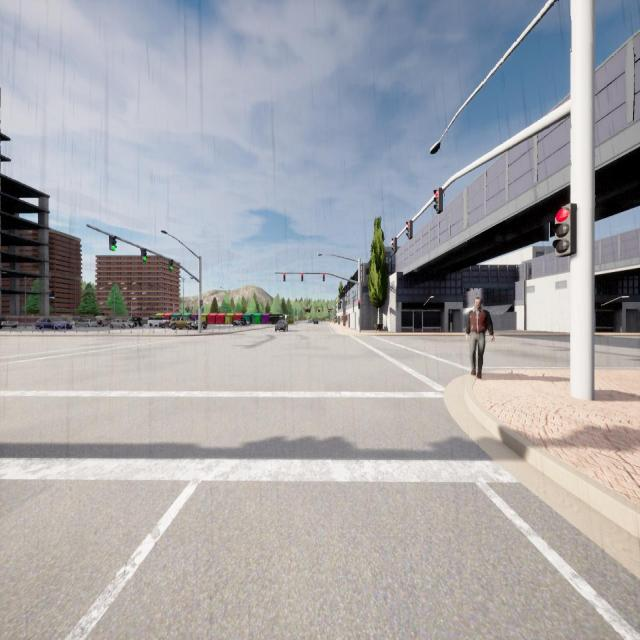Pedestrian: (465, 296, 495, 380)
Vehicle: (35, 316, 72, 330), (170, 314, 192, 330), (110, 318, 133, 329), (0, 315, 18, 329), (147, 316, 167, 327), (274, 319, 288, 333), (189, 320, 207, 330), (232, 318, 246, 327), (79, 318, 91, 328), (98, 318, 108, 327), (133, 317, 142, 327), (160, 321, 170, 328), (91, 319, 97, 327), (306, 319, 312, 324), (312, 320, 319, 324)
traffic_light: (552, 203, 576, 257), (434, 187, 443, 214), (109, 235, 117, 251), (406, 220, 412, 240), (392, 237, 397, 254), (141, 248, 147, 262), (169, 259, 173, 270), (283, 273, 286, 282), (200, 300, 203, 309), (301, 273, 303, 282), (323, 273, 325, 282), (358, 300, 360, 309)
